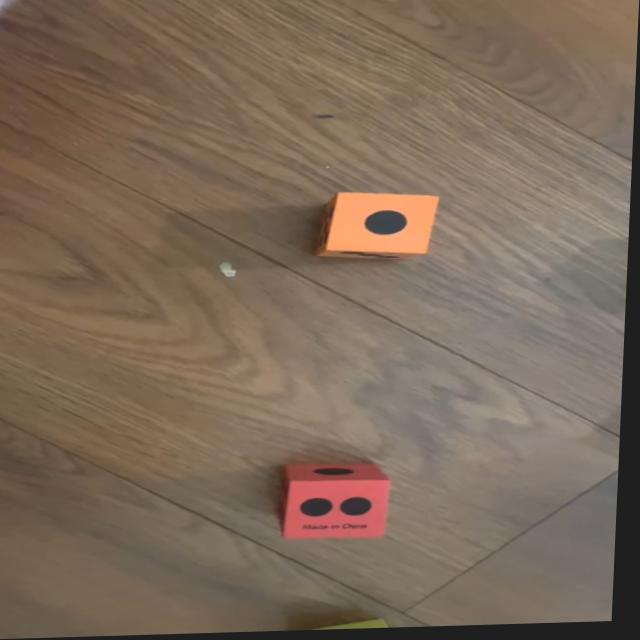red_block: (281, 462, 395, 541)
